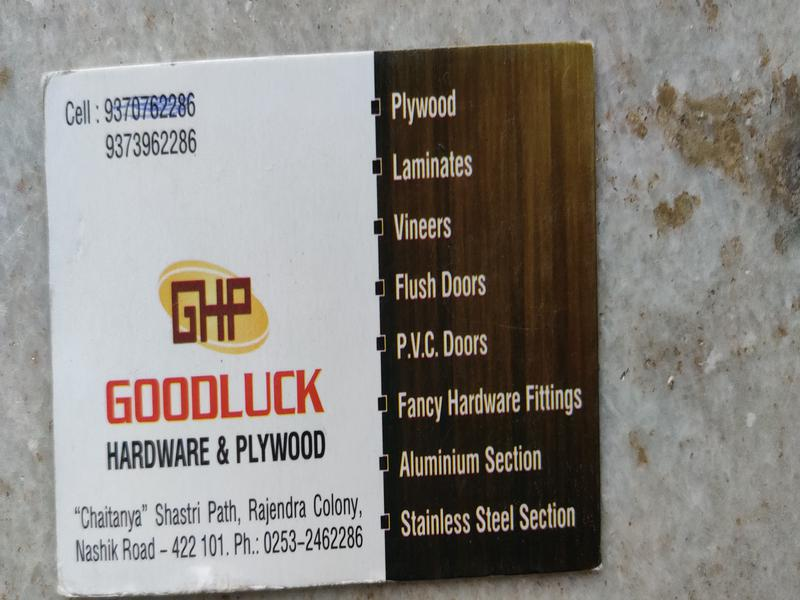card: (38, 37, 612, 600)
